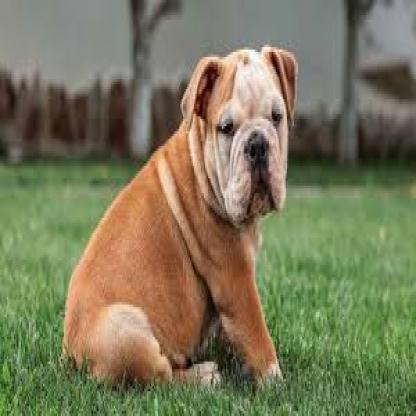dog: (46, 36, 328, 390)
